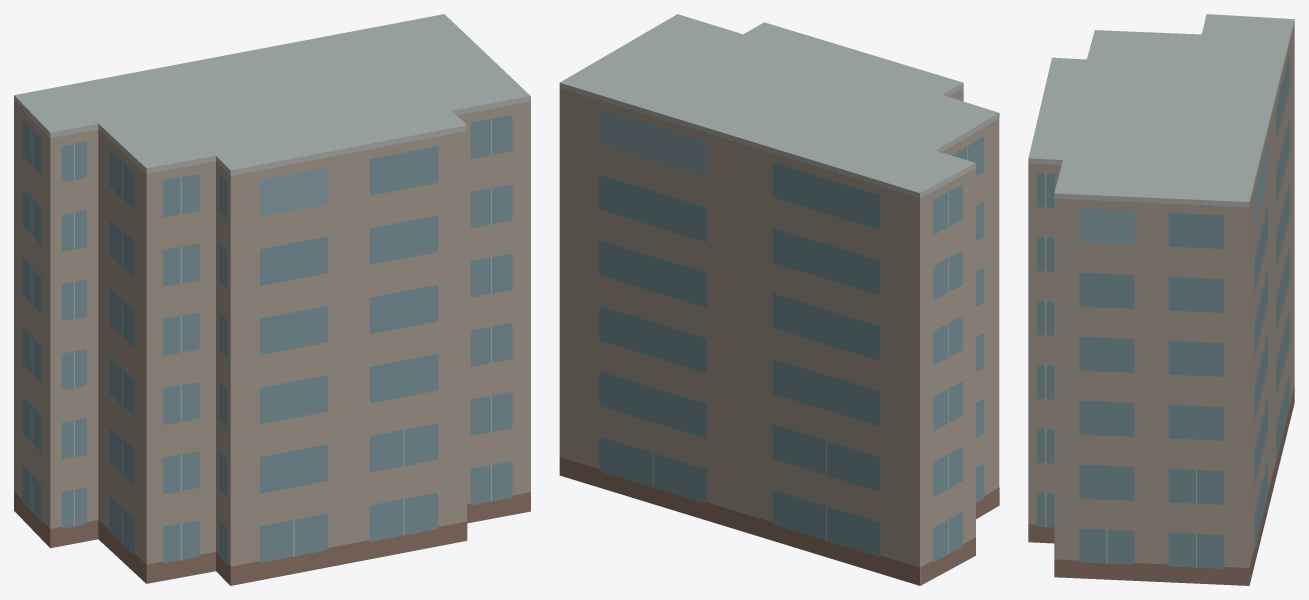
File: survey-upis-33020122.glb
The picture shows the model from 3 angles, left to right: view 1: azimuth 30°, elevation 25°; view 2: azimuth 150°, elevation 25°; view 3: azimuth 270°, elevation 25°; orthographic projection. The views are drawn at different scales.
Visible parts, largest first — view 1: survey-upis-33020122.tmp; view 2: survey-upis-33020122.tmp; view 3: survey-upis-33020122.tmp.
Part boxes in pixels (<box>): survey-upis-33020122.tmp: <box>14,14,530,585</box>; survey-upis-33020122.tmp: <box>559,14,999,585</box>; survey-upis-33020122.tmp: <box>1028,14,1294,585</box>.
Size of the model in its own units: 19.24 by 18.3 by 11.51.
